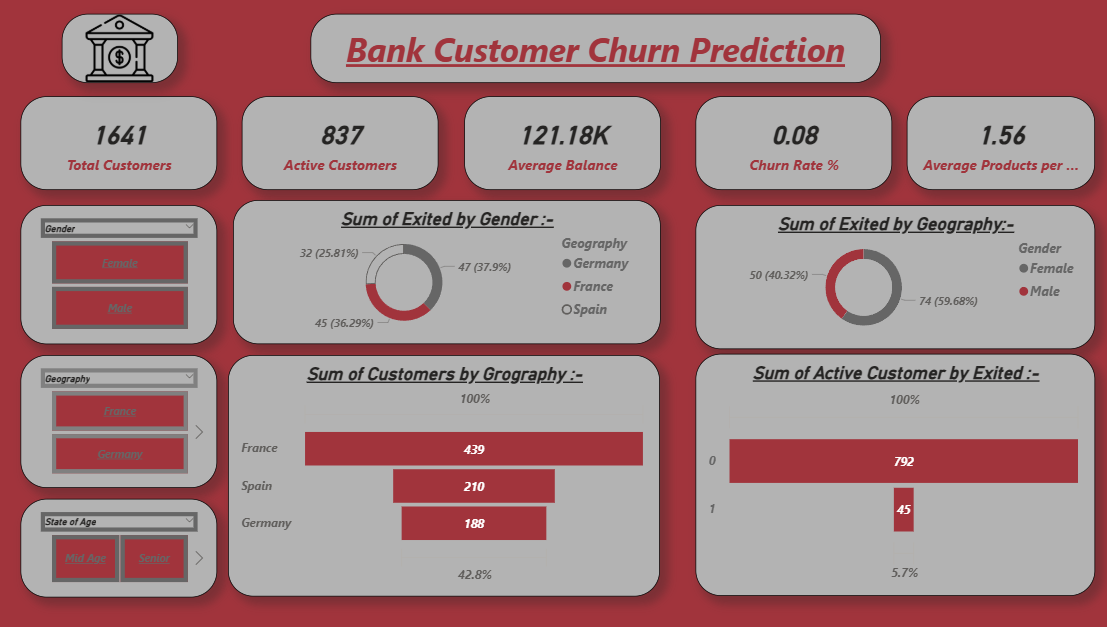

The dashboard page shown, as its layout file describes it:
{"tool":"powerbi","page":{"name":"Dashboard","canvas":[1280,720],"ordinal":0},"visuals":[{"type":"shape","box":[0,0,1270.7,720.4],"z":0},{"type":"textbox","box":[356.8,15.1,651.8,79.6],"z":1000},{"type":"card","fields":{"Values":["Churn_Modelling.Active Customers"]},"box":[278.6,109.8,225,107],"z":2000},{"type":"card","fields":{"Values":["Churn_Modelling.Total Customers"]},"box":[26.1,109.8,225,107],"z":3000},{"type":"card","fields":{"Values":["Churn_Modelling.Churn Rate %"]},"box":[797.3,109.8,225,107],"z":4000},{"type":"card","fields":{"Values":["Churn_Modelling.Average Products per Customer"]},"box":[1038.8,109.8,215.4,107],"z":5000},{"type":"card","fields":{"Values":["Churn_Modelling.Average Balance"]},"box":[532.4,109.8,225,107],"z":6000},{"type":"slicer","fields":{"Values":["Churn_Modelling.Gender"]},"box":[26.1,234.6,225,159.2],"z":7000},{"type":"slicer","fields":{"Values":["Churn_Modelling.Geography"]},"box":[26.1,406.2,225,152.3],"z":8000},{"type":"slicer","fields":{"Values":["Churn_Modelling.State of Age"]},"box":[26.1,569.5,225,112.5],"z":9000},{"type":"donutChart","title":"Sum of Exited by Geography:-","fields":{"Category":["Churn_Modelling.Gender"],"Y":["Sum(Churn_Modelling.Exited)"]},"box":[797.3,234.6,456.9,164.7],"z":10000},{"type":"donutChart","title":"Sum of Exited by Gender :-","fields":{"Y":["Sum(Churn_Modelling.Exited)"],"Category":["Churn_Modelling.Geography"]},"box":[269,229.2,488.5,164.7],"z":11000},{"type":"funnel","title":"Sum of Customers  by Grography :-","fields":{"Category":["Churn_Modelling.Geography"],"Y":["Churn_Modelling.Active Customers"]},"box":[263.5,406.2,494,275.8],"z":12000},{"type":"funnel","title":"Sum of Active Customer  by Exited :-","fields":{"Category":["Churn_Modelling.Exited"],"Y":["Churn_Modelling.Active Customers"]},"box":[797.3,404.8,456.9,277.2],"z":13000},{"type":"image","box":[72.7,15.1,133.1,79.6],"z":14000}]}

Visuals, with their boxes in screenshot pixels (x1, y1, x2, y2), scaled from the page's 1280x720 canvas onto the 1107x627 screenshot:
shape: select_region(0, 0, 1099, 626)
textbox: select_region(309, 13, 872, 82)
card - Churn_Modelling.Active Customers: select_region(241, 96, 436, 189)
card - Churn_Modelling.Total Customers: select_region(23, 96, 217, 189)
card - Churn_Modelling.Churn Rate %: select_region(690, 96, 884, 189)
card - Churn_Modelling.Average Products per Customer: select_region(898, 96, 1085, 189)
card - Churn_Modelling.Average Balance: select_region(460, 96, 655, 189)
slicer - Churn_Modelling.Gender: select_region(23, 204, 217, 343)
slicer - Churn_Modelling.Geography: select_region(23, 354, 217, 486)
slicer - Churn_Modelling.State of Age: select_region(23, 496, 217, 594)
"Sum of Exited by Geography:-" donutChart: select_region(690, 204, 1085, 348)
"Sum of Exited by Gender :-" donutChart: select_region(233, 200, 655, 343)
"Sum of Customers  by Grography :-" funnel: select_region(228, 354, 655, 594)
"Sum of Active Customer  by Exited :-" funnel: select_region(690, 353, 1085, 594)
image: select_region(63, 13, 178, 82)
